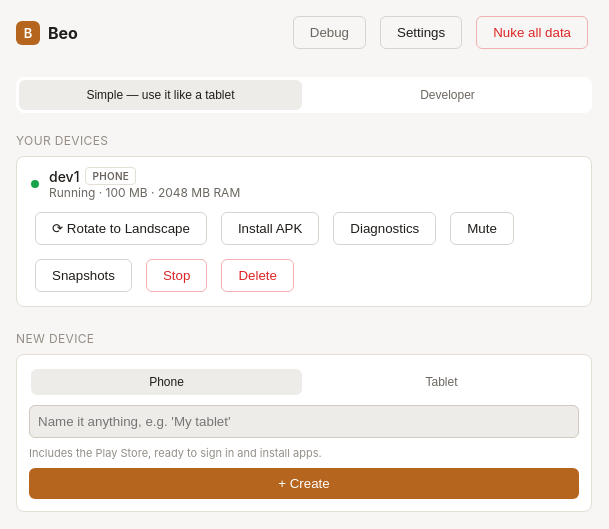
Test case: App — doStop reconciles against ground truth on failure › flips a device back to Stopped when stop_avd fails but the device isn't actually running anymore
Click the button "Stop": {"x": 177, "y": 276} [146, 259, 207, 292]
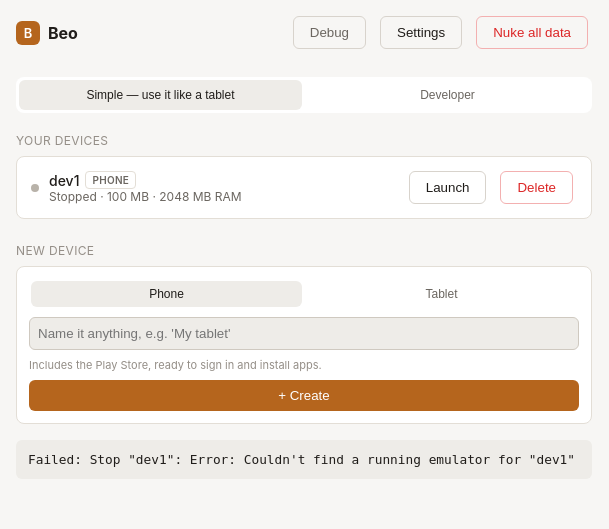
Expected: the button "Launch" is shown, [409, 171, 486, 204]
